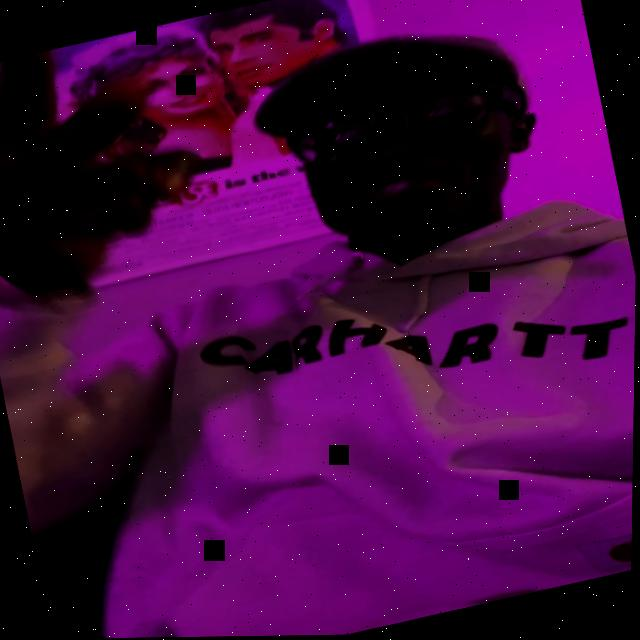Scissors: (0, 21, 225, 315)
